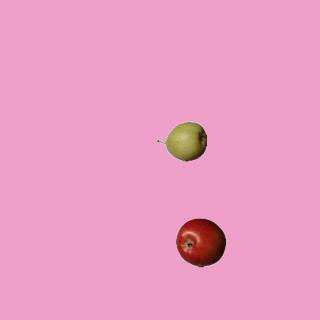Apple Braeburn: (175, 217, 225, 267)
Pear: (156, 116, 206, 166)
